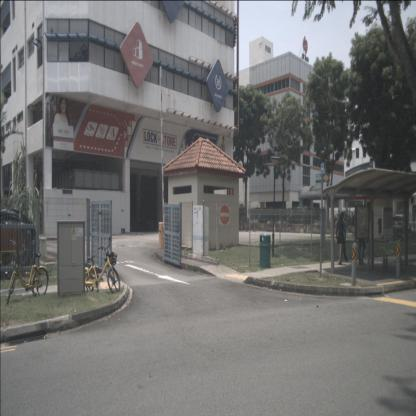human-pedestrian-adult: (340, 212, 354, 262), (336, 212, 346, 265), (357, 210, 366, 266)
vehicle-bicycle: (6, 239, 49, 306), (83, 236, 121, 295)
vehicle-car: (0, 204, 38, 282), (391, 214, 412, 234)
